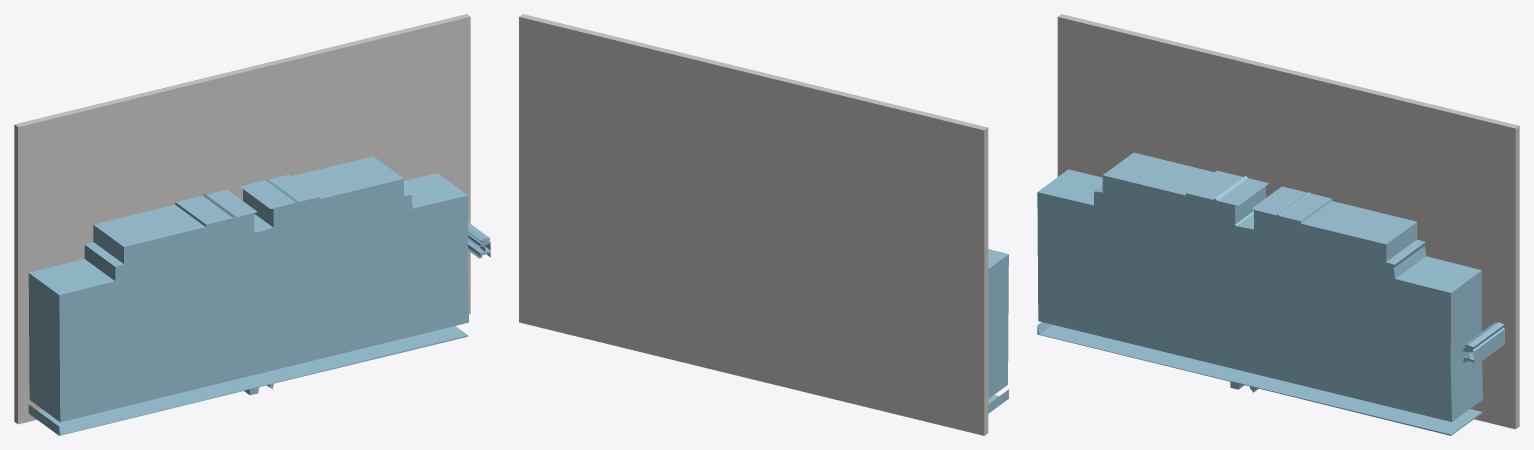
The picture shows the model from 3 angles, left to right: view 1: azimuth 30°, elevation 25°; view 2: azimuth 150°, elevation 25°; view 3: azimuth 330°, elevation 25°; orthographic projection. The views are drawn at different scales.
Parts seen in each view (by area): view 1: world; view 2: world; view 3: world.
Part boxes in pixels (x1,y1,x2,y2): world: (14,14,490,435); world: (519,14,1008,435); world: (1037,14,1519,435).
Bounding box in the file's own units: 10.23 × 6.42 × 1.35.
